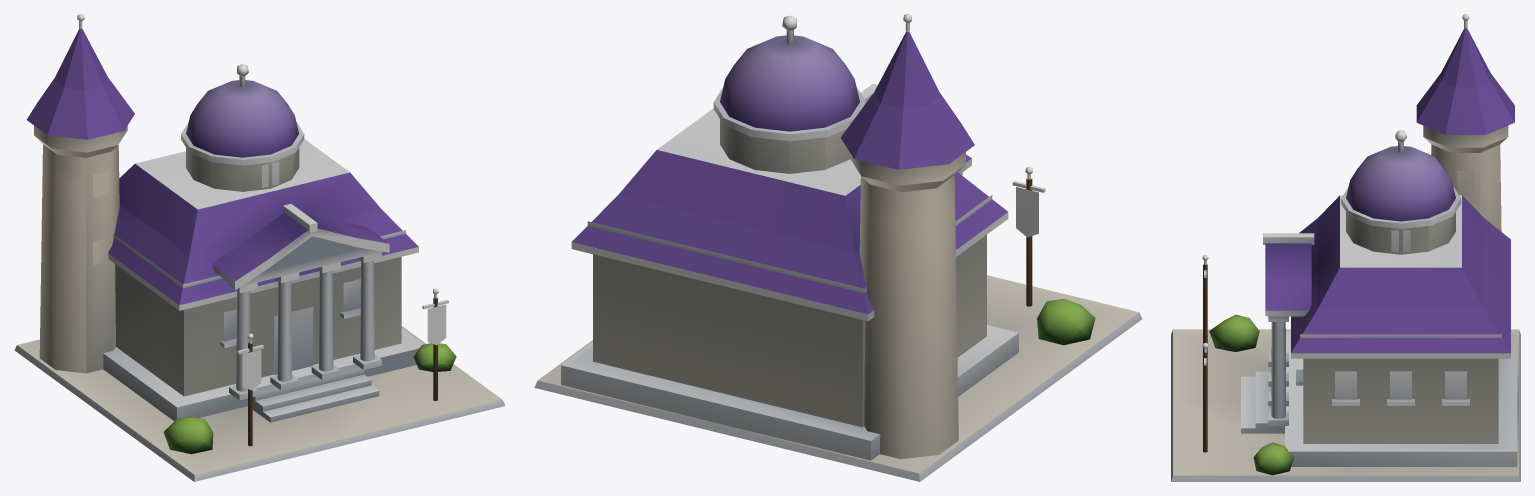
File: academy_t4.glb
3 renders of one model, left to right at view 1: azimuth 30°, elevation 25°; view 2: azimuth 150°, elevation 25°; view 3: azimuth 270°, elevation 25°, orthographic. The views are drawn at different scales.
Visible parts, largest first — view 1: academy_t4; view 2: academy_t4; view 3: academy_t4.
Part boxes in pixels (x1,y1,x2,y2): academy_t4: [14, 14, 505, 481]; academy_t4: [534, 14, 1142, 481]; academy_t4: [1171, 14, 1520, 481].
Bounding box in the file's own units: 2.91 × 3.05 × 2.86.
